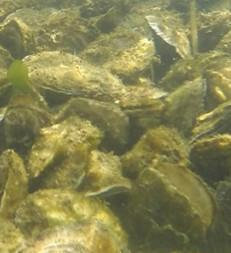3: (123, 164, 218, 252), (22, 52, 125, 100), (135, 77, 207, 139), (122, 127, 190, 179), (189, 116, 231, 146), (197, 100, 231, 123), (120, 99, 162, 115)
Oyster-Closed: (54, 97, 130, 154), (27, 124, 67, 178), (146, 15, 192, 60), (0, 149, 29, 220), (108, 79, 168, 105), (0, 19, 35, 60), (204, 71, 231, 112), (49, 6, 82, 27), (83, 7, 115, 28)
Oyster-Open: (15, 189, 131, 253), (29, 117, 104, 195), (79, 27, 156, 76), (0, 105, 56, 172), (78, 150, 132, 198), (34, 18, 101, 56), (189, 136, 231, 191), (9, 86, 51, 115), (2, 8, 40, 37), (0, 218, 26, 253), (0, 47, 18, 94), (215, 31, 231, 53)
